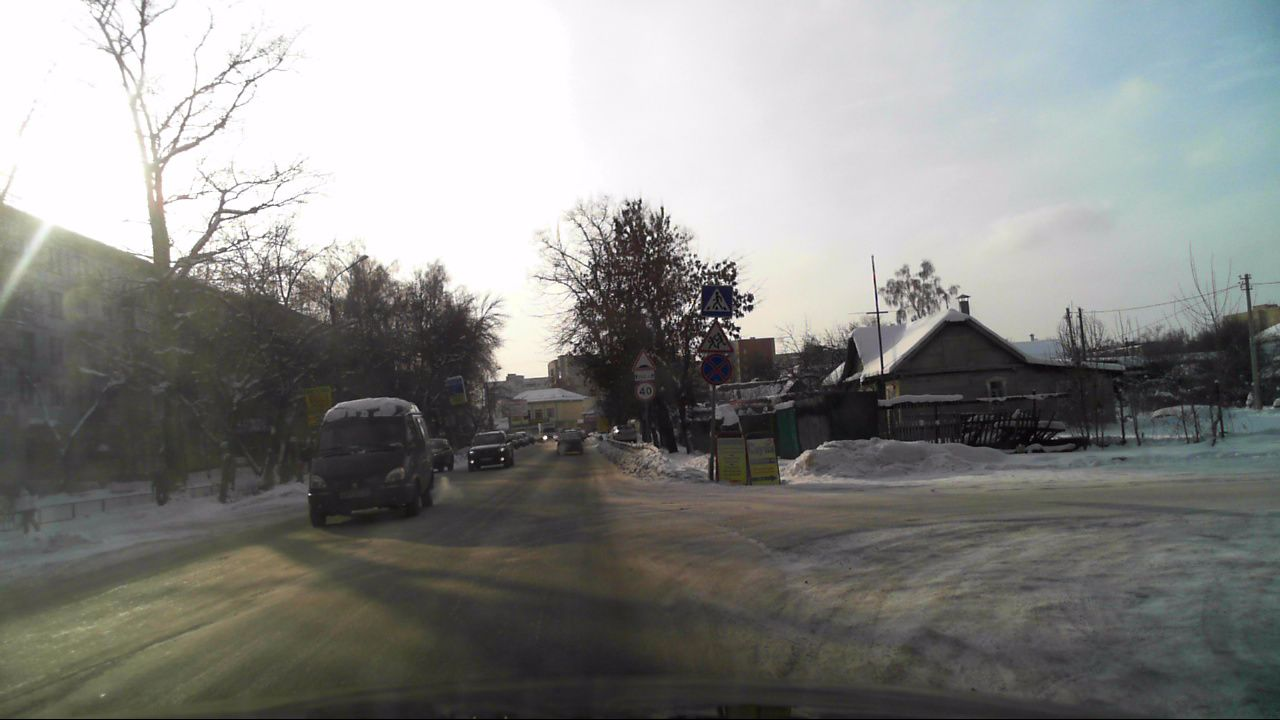No Parking: (700, 354, 731, 384)
speed_warning_40: (636, 382, 654, 399)
